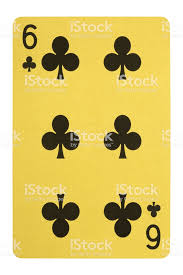six of hearts: (11, 18, 165, 258)
